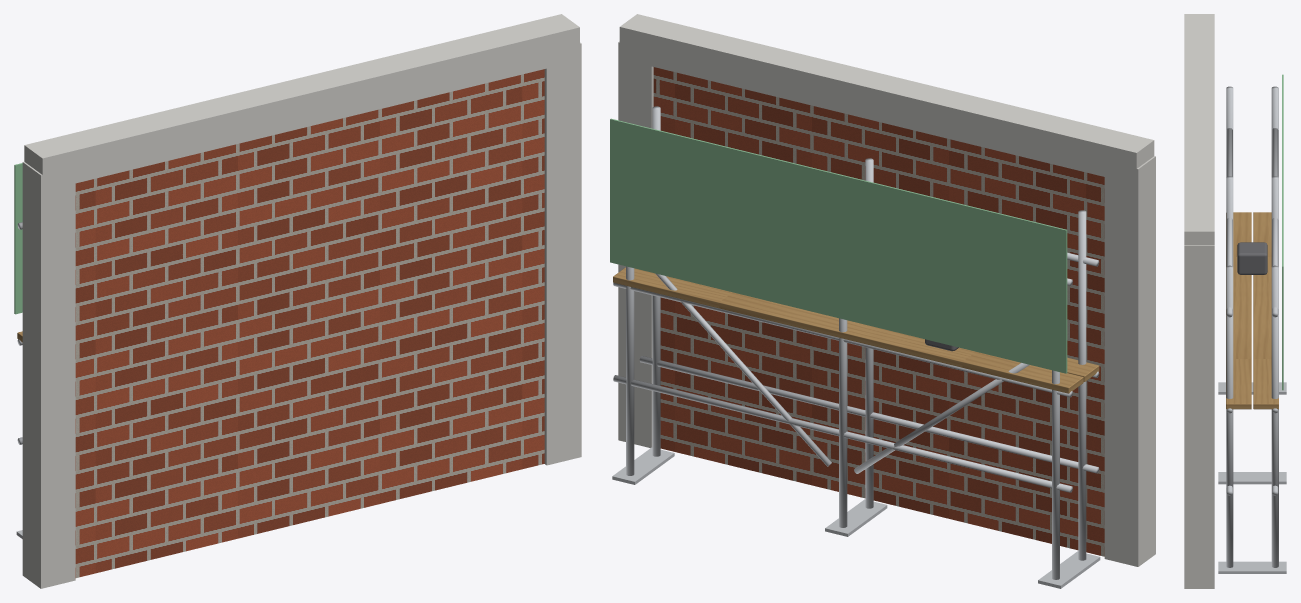
The model's file is obra.andamio.fbx.
3 renders of one model, left to right at view 1: azimuth 30°, elevation 25°; view 2: azimuth 150°, elevation 25°; view 3: azimuth 270°, elevation 25°, orthographic. The views are drawn at different scales.
Parts seen in each view (by area): view 1: Muro en obra, Cadena, Pilar de hormigon.001, Pilar de hormigon, Malla de seguridad; view 2: Muro en obra, Malla de seguridad, Cadena, Pilar de hormigon.001, Tablon, Pilar de hormigon, Larguero, Larguero.001, Pilar del andamio.005, Pilar del andamio, Pilar del andamio.002, Larguero.002 (+8 smaller); view 3: Pilar de hormigon, Cadena, Tablon.001, Tablon, Pilar del andamio, Pilar del andamio.001, Balde, Base, Larguero.005, Larguero.004, Base.001, Malla de seguridad (+5 smaller).
Boxes of the visible parts, x1,y1,x2,y2 form: Muro en obra: (75,69,544,577); Cadena: (24,14,579,191); Pilar de hormigon.001: (22,161,75,588); Pilar de hormigon: (544,42,581,465); Malla de seguridad: (14,163,22,314); Muro en obra: (653,67,1104,556); Malla de seguridad: (610,118,1067,373); Cadena: (619,14,1154,182); Pilar de hormigon.001: (1104,156,1155,566); Tablon: (613,267,1083,393); Pilar de hormigon: (618,41,653,447); Larguero: (613,375,1072,492); Larguero.001: (639,356,1099,473); Pilar del andamio.005: (1078,210,1086,560); Pilar del andamio: (626,266,634,475); Pilar del andamio.002: (839,318,847,527); Larguero.002: (613,282,1072,397); Pilar de hormigon: (1184,245,1214,588); Cadena: (1184,14,1214,245); Tablon.001: (1226,212,1251,409); Tablon: (1253,212,1278,409); Pilar del andamio: (1271,265,1278,567); Pilar del andamio.001: (1226,265,1233,567); Balde: (1237,242,1267,274); Base: (1218,561,1286,573); Larguero.005: (1226,128,1232,317); Larguero.004: (1272,128,1278,317); Base.001: (1218,472,1286,484); Malla de seguridad: (1282,74,1283,390).
Bounding box in the file's own units: 3.42 × 2.6 × 0.675.
6 materials, 2 textured.
